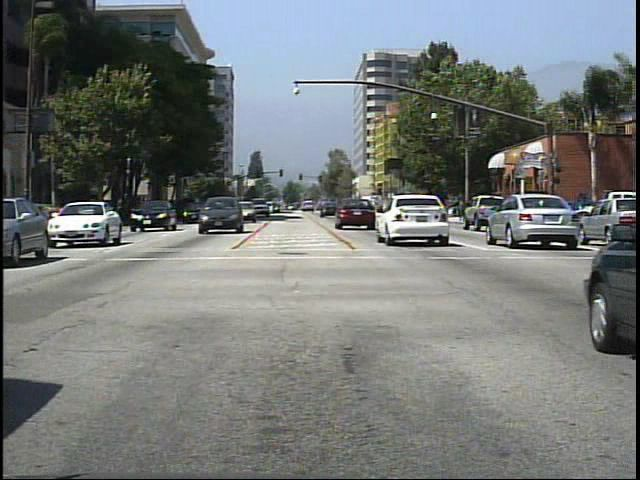person: (530, 194, 549, 228), (493, 189, 511, 224)
